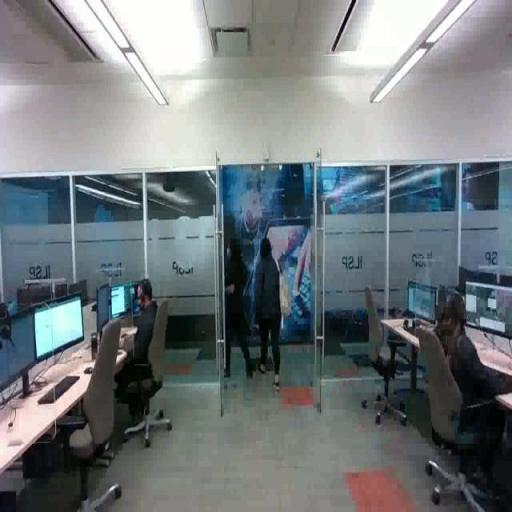person: (253, 236, 287, 391), (225, 240, 255, 381)
